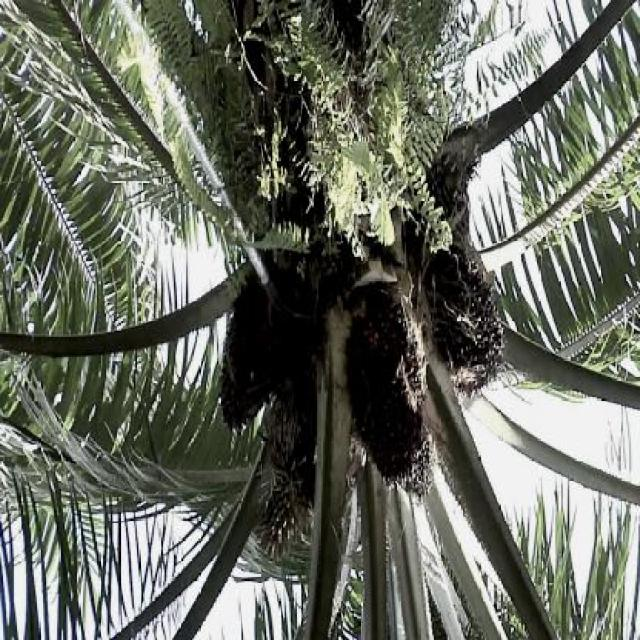palm-oil: (347, 313, 430, 485), (414, 250, 498, 382), (219, 282, 287, 431)
